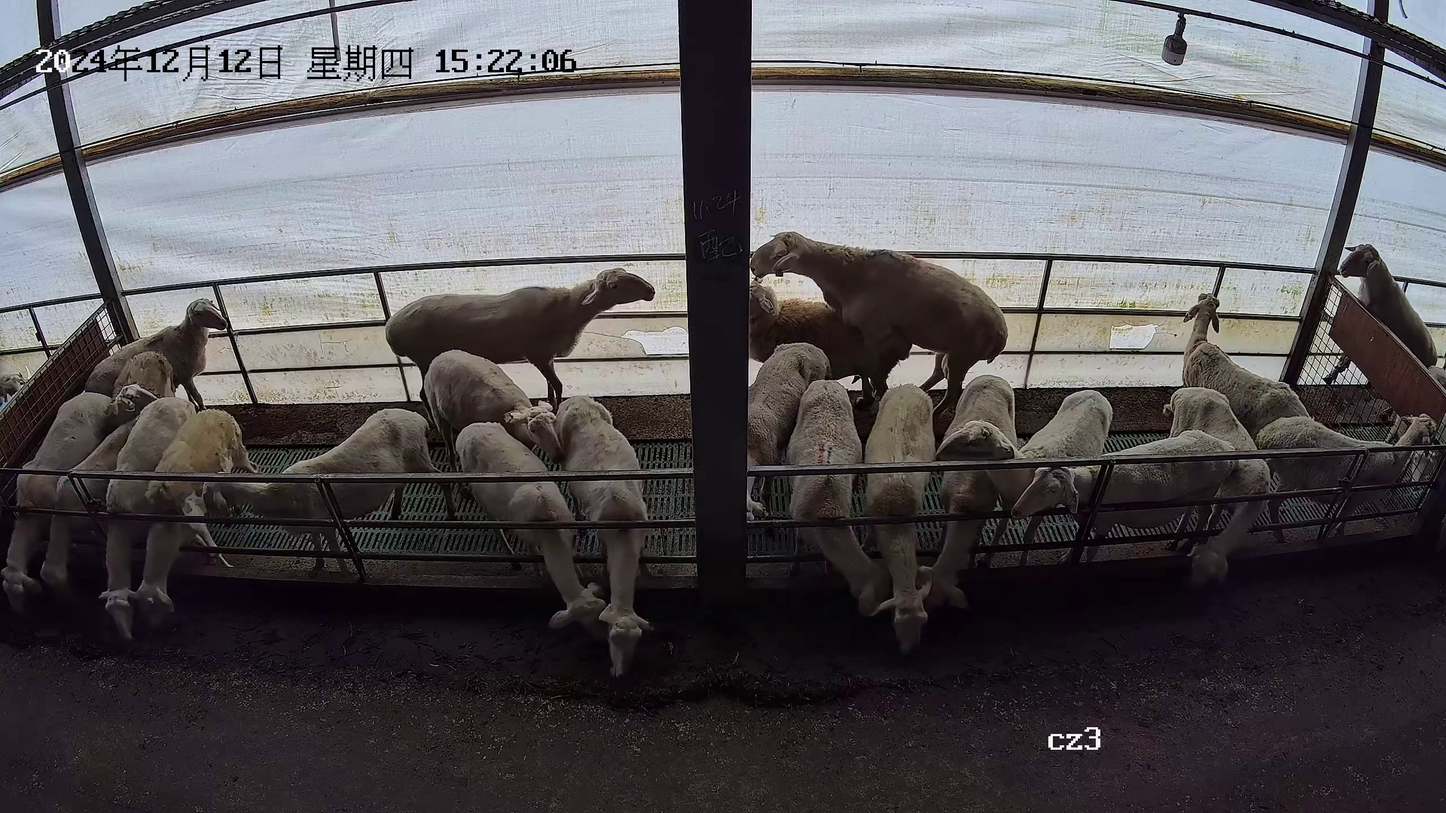Smounting: (744, 229, 1009, 417)
mounted: (748, 282, 912, 408)
